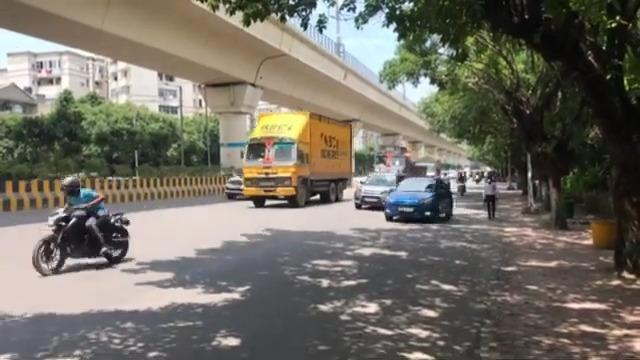Bike: (31, 172, 130, 276)
Truck: (240, 106, 354, 207)
